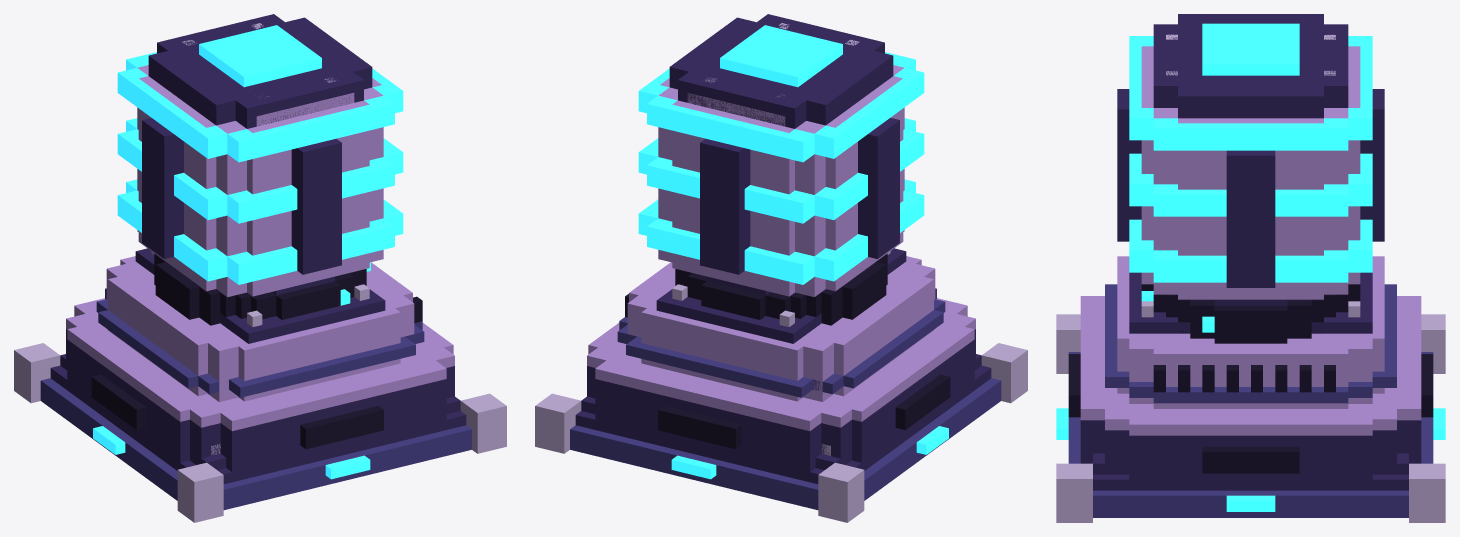
Rendered from shield-emitter.md.glb.
3 renders of one model, left to right at view 1: azimuth 30°, elevation 25°; view 2: azimuth 150°, elevation 25°; view 3: azimuth 270°, elevation 25°, orthographic. The views are drawn at different scales.
Parts seen in each view (by area): view 1: shield-emitter.md; view 2: shield-emitter.md; view 3: shield-emitter.md.
Boxes of the visible parts, x1=… form: shield-emitter.md: x1=14, y1=14, x2=506, y2=522; shield-emitter.md: x1=535, y1=14, x2=1027, y2=522; shield-emitter.md: x1=1056, y1=14, x2=1445, y2=522.
Bounding box in the file's own units: 2 × 2.25 × 2.
